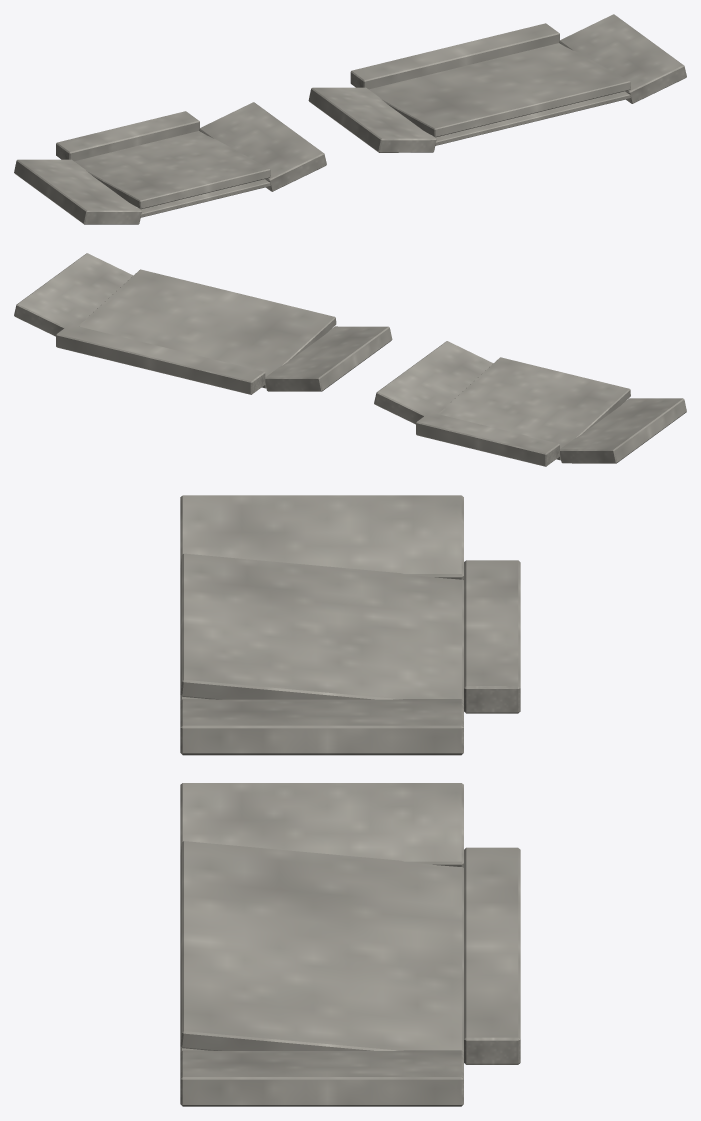
Rendered from curb_ramp.glb.
3 renders of one model, top to bottom at view 1: azimuth 30°, elevation 25°; view 2: azimuth 150°, elevation 25°; view 3: azimuth 270°, elevation 25°, orthographic. The views are drawn at different scales.
Parts seen in each view (by area): view 1: curb_ramp_v2, curb_ramp_v1; view 2: curb_ramp_v2, curb_ramp_v1; view 3: curb_ramp_v2, curb_ramp_v1.
Part boxes in pixels (left/top/right/bottom): curb_ramp_v2: left=308, top=14, right=686, bottom=152; curb_ramp_v1: left=14, top=102, right=326, bottom=224; curb_ramp_v2: left=14, top=253, right=392, bottom=394; curb_ramp_v1: left=374, top=341, right=686, bottom=466; curb_ramp_v2: left=180, top=783, right=520, bottom=1106; curb_ramp_v1: left=180, top=495, right=520, bottom=755.
Bounding box in the file's own units: 7.37 × 0.308 × 1.8.
2 materials, 2 textured.
